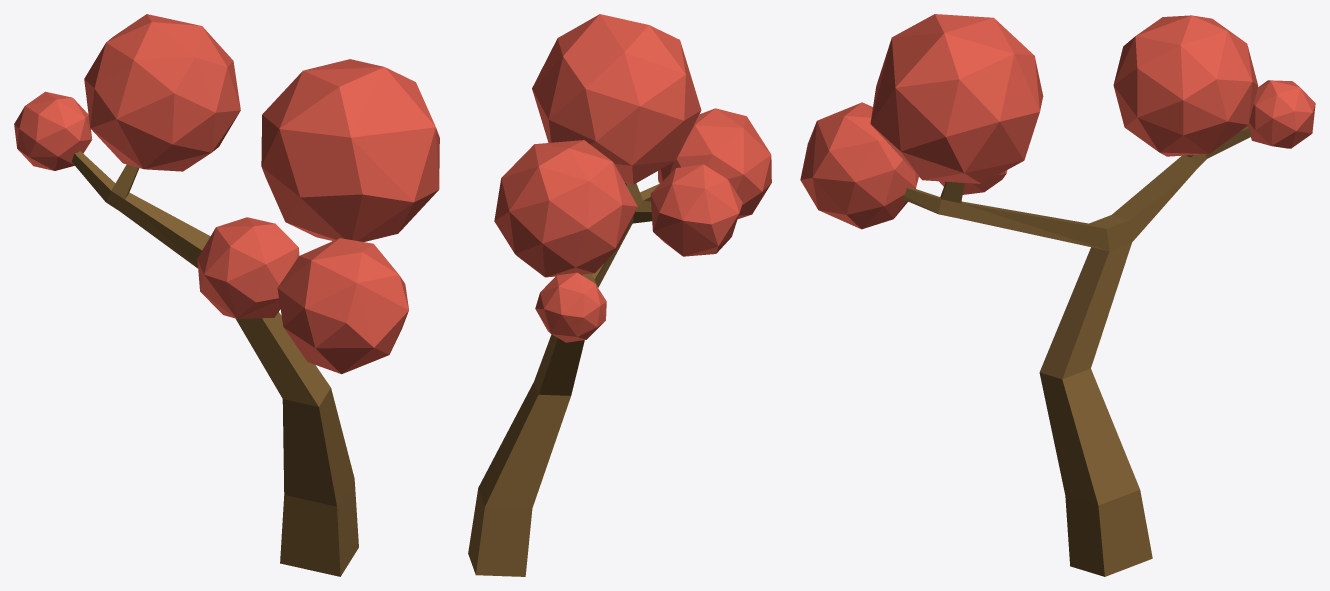
File: tree2_00008.fbx
3 views of the same model, side by side, from view 1: azimuth 30°, elevation 25°; view 2: azimuth 150°, elevation 25°; view 3: azimuth 270°, elevation 25° (orthographic). The views are drawn at different scales.
Visible parts, largest first — view 1: tree2; view 2: tree2; view 3: tree2.
Part boxes in pixels (bbox=[...]): tree2: bbox=[14, 14, 439, 576]; tree2: bbox=[468, 14, 771, 576]; tree2: bbox=[800, 14, 1315, 576].
Size of the model in its own units: 508 by 1123 by 1004.
